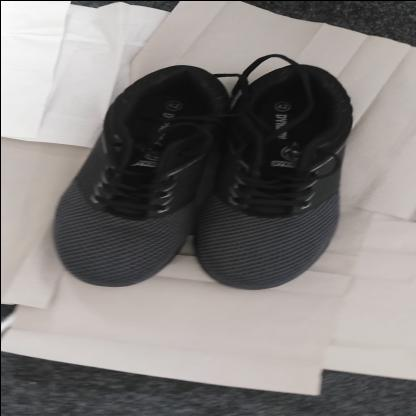safety-shoe: (52, 63, 354, 289)
